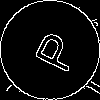P: (25, 25, 81, 75)
